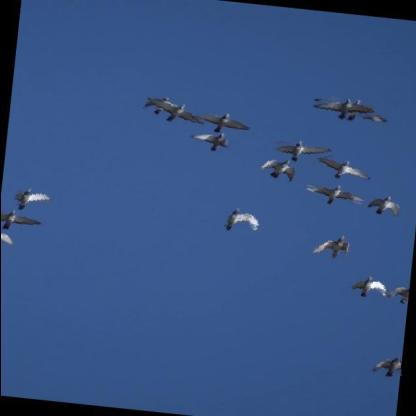bird: (310, 92, 374, 125), (272, 134, 334, 166), (142, 97, 205, 127), (326, 98, 391, 127), (312, 155, 373, 185), (303, 180, 366, 209), (189, 108, 251, 136), (309, 234, 353, 264), (0, 204, 46, 232), (11, 183, 53, 212), (345, 272, 388, 300), (221, 204, 261, 234), (257, 153, 297, 182), (140, 93, 181, 120), (187, 129, 229, 153), (365, 193, 402, 218), (370, 354, 402, 381), (384, 285, 408, 304)
